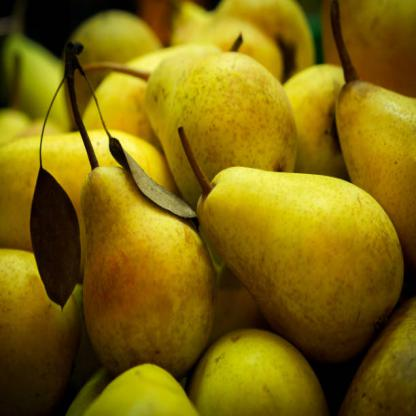Paer: (67, 120, 220, 378), (186, 161, 403, 337)
